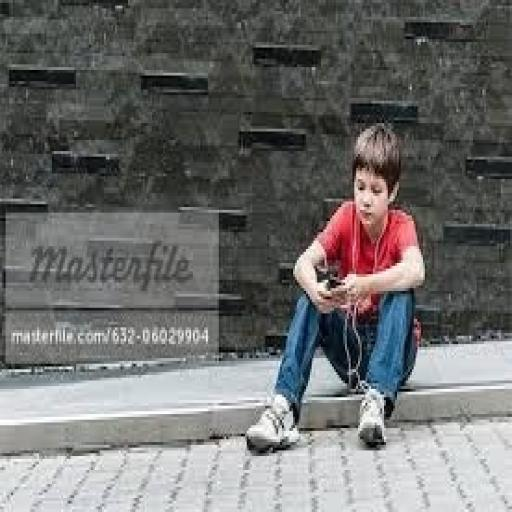listening_to_music: (243, 120, 429, 456)
